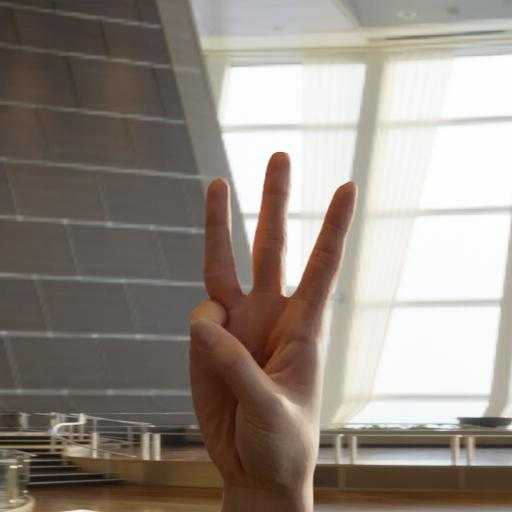W: (188, 147, 360, 492)
